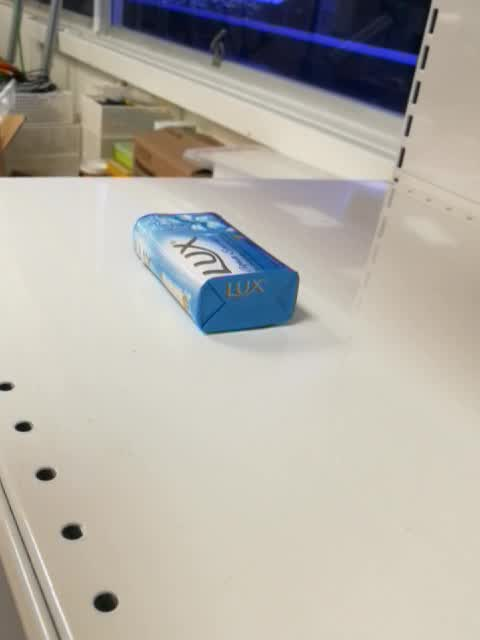soap: (131, 212, 301, 336)
